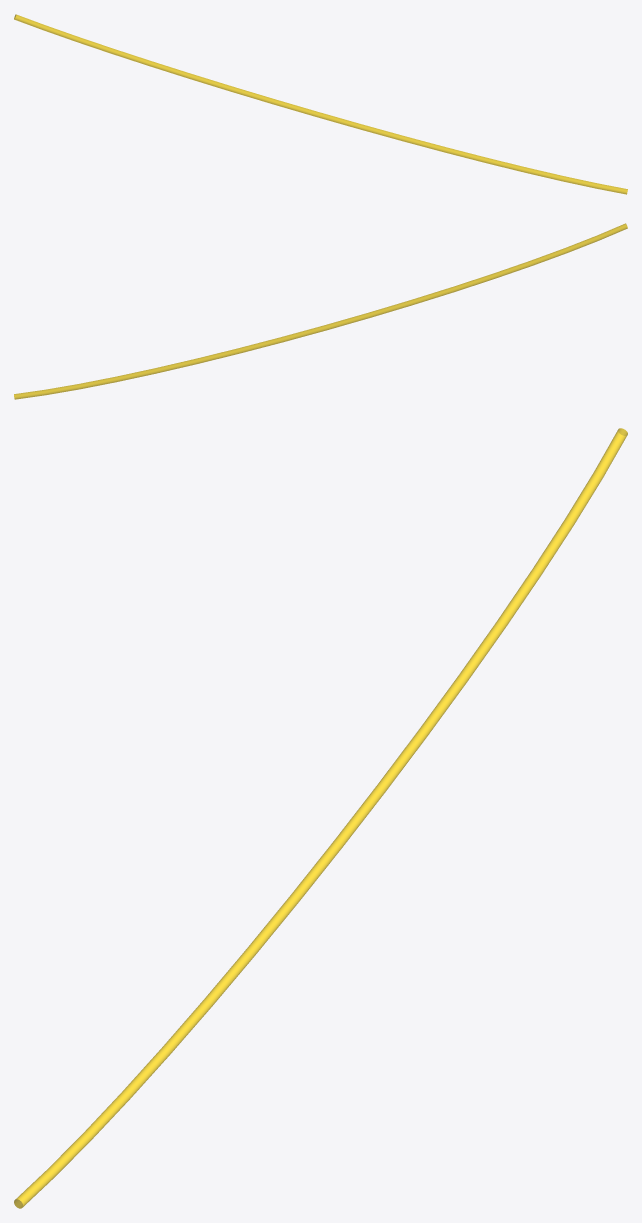
The model's file is Event_17758602_track_147.fbx.
3 views of the same model, one above another, from view 1: azimuth 30°, elevation 25°; view 2: azimuth 210°, elevation 25°; view 3: azimuth 270°, elevation 25° (orthographic). The views are drawn at different scales.
Parts seen in each view (by area): view 1: Model; view 2: Model; view 3: Model.
Part boxes in pixels (<box>): Model: <box>14,14,627,194</box>; Model: <box>14,223,627,399</box>; Model: <box>14,428,627,1208</box>.
Bounding box in the file's own units: 3.78 × 1.4 × 2.24.
